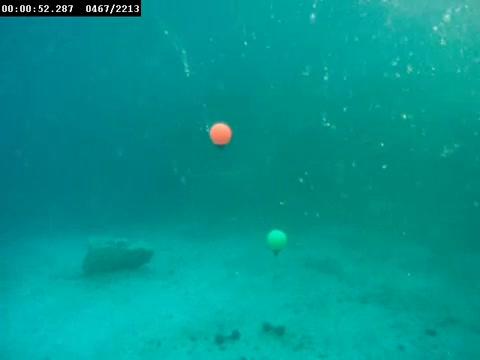buoy_green: (266, 227, 287, 259)
buoy_red: (208, 119, 231, 152)
